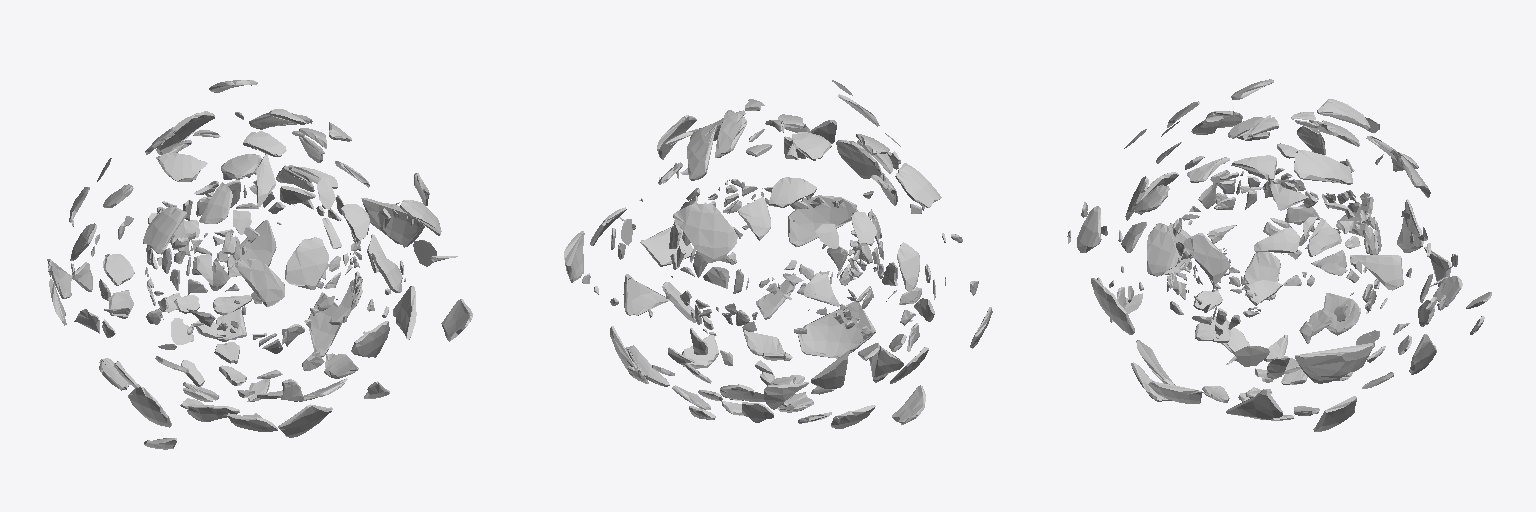
File: explosion2.obj
3 renders of one model, left to right at view 1: azimuth 30°, elevation 25°; view 2: azimuth 150°, elevation 25°; view 3: azimuth 270°, elevation 25°, orthographic.
Parts seen in each view (by area): view 1: Sphere_cell.109_Mesh.578, Sphere_cell.141_Mesh.609, Sphere_cell.159_Mesh.627, Sphere_cell.125_Mesh.593, Sphere_cell.116_Mesh.585, Sphere_cell.136_Mesh.604, Sphere_cell.117_Mesh.586, Sphere_cell.149_Mesh.617, Sphere_cell.126_Mesh.594, Sphere_cell.157_Mesh.625, Sphere_cell.137_Mesh.605, Sphere_cell.054_Mesh.058 (+13 smaller); view 2: Sphere_cell.149_Mesh.617, Sphere_cell.128_Mesh.596, Sphere_cell.137_Mesh.605, Sphere_cell.145_Mesh.613, Sphere_cell.054_Mesh.058, Sphere_cell.125_Mesh.593, Sphere_cell.109_Mesh.578, Sphere_cell.131_Mesh.599, Sphere_cell.110_Mesh.579, Sphere_cell.144_Mesh.612, Sphere_cell.155_Mesh.623, Sphere_cell.173_Mesh.641 (+13 smaller); view 3: Sphere_cell.141_Mesh.609, Sphere_cell.145_Mesh.613, Sphere_cell.122_Mesh.590, Sphere_cell.049_Mesh.057, Sphere_cell.163_Mesh.631, Sphere_cell.054_Mesh.058, Sphere_cell.124_Mesh.592, Sphere_cell.137_Mesh.605, Sphere_cell.040_Mesh.055, Sphere_cell.167_Mesh.635, Sphere_cell.129_Mesh.597, Sphere_cell.110_Mesh.579 (+12 smaller).
Boxes of the visible parts, box(x1,y1,x2,y2) form: Sphere_cell.109_Mesh.578: box(285, 237, 328, 289); Sphere_cell.141_Mesh.609: box(361, 198, 424, 247); Sphere_cell.159_Mesh.627: box(235, 259, 284, 306); Sphere_cell.125_Mesh.593: box(143, 206, 186, 254); Sphere_cell.116_Mesh.585: box(227, 220, 276, 276); Sphere_cell.136_Mesh.604: box(308, 292, 341, 356); Sphere_cell.117_Mesh.586: box(156, 153, 207, 181); Sphere_cell.149_Mesh.617: box(278, 404, 332, 437); Sphere_cell.126_Mesh.594: box(128, 387, 171, 427); Sphere_cell.157_Mesh.625: box(199, 182, 232, 223); Sphere_cell.137_Mesh.605: box(351, 321, 389, 357); Sphere_cell.054_Mesh.058: box(393, 286, 416, 339); Sphere_cell.149_Mesh.617: box(798, 301, 875, 358); Sphere_cell.128_Mesh.596: box(673, 203, 737, 262); Sphere_cell.137_Mesh.605: box(788, 195, 857, 246); Sphere_cell.145_Mesh.613: box(687, 125, 716, 180); Sphere_cell.054_Mesh.058: box(623, 274, 669, 315); Sphere_cell.125_Mesh.593: box(895, 163, 941, 207); Sphere_cell.109_Mesh.578: box(836, 140, 881, 178); Sphere_cell.131_Mesh.599: box(768, 177, 816, 207); Sphere_cell.110_Mesh.579: box(715, 110, 746, 157); Sphere_cell.144_Mesh.612: box(640, 226, 692, 266); Sphere_cell.155_Mesh.623: box(737, 197, 770, 240); Sphere_cell.173_Mesh.641: box(897, 242, 919, 291); Sphere_cell.141_Mesh.609: box(1295, 343, 1373, 383); Sphere_cell.145_Mesh.613: box(1294, 149, 1352, 184); Sphere_cell.122_Mesh.590: box(1147, 223, 1178, 276); Sphere_cell.049_Mesh.057: box(1183, 233, 1230, 283); Sphere_cell.163_Mesh.631: box(1356, 255, 1403, 290); Sphere_cell.054_Mesh.058: box(1226, 389, 1282, 419); Sphere_cell.124_Mesh.592: box(1244, 252, 1280, 299); Sphere_cell.137_Mesh.605: box(1091, 278, 1134, 334); Sphere_cell.040_Mesh.055: box(1323, 293, 1360, 335); Sphere_cell.167_Mesh.635: box(1254, 227, 1299, 253); Sphere_cell.129_Mesh.597: box(1077, 206, 1101, 252); Sphere_cell.110_Mesh.579: box(1317, 99, 1370, 130).
Size of the model in its own units: 28.37 by 23.66 by 29.11.